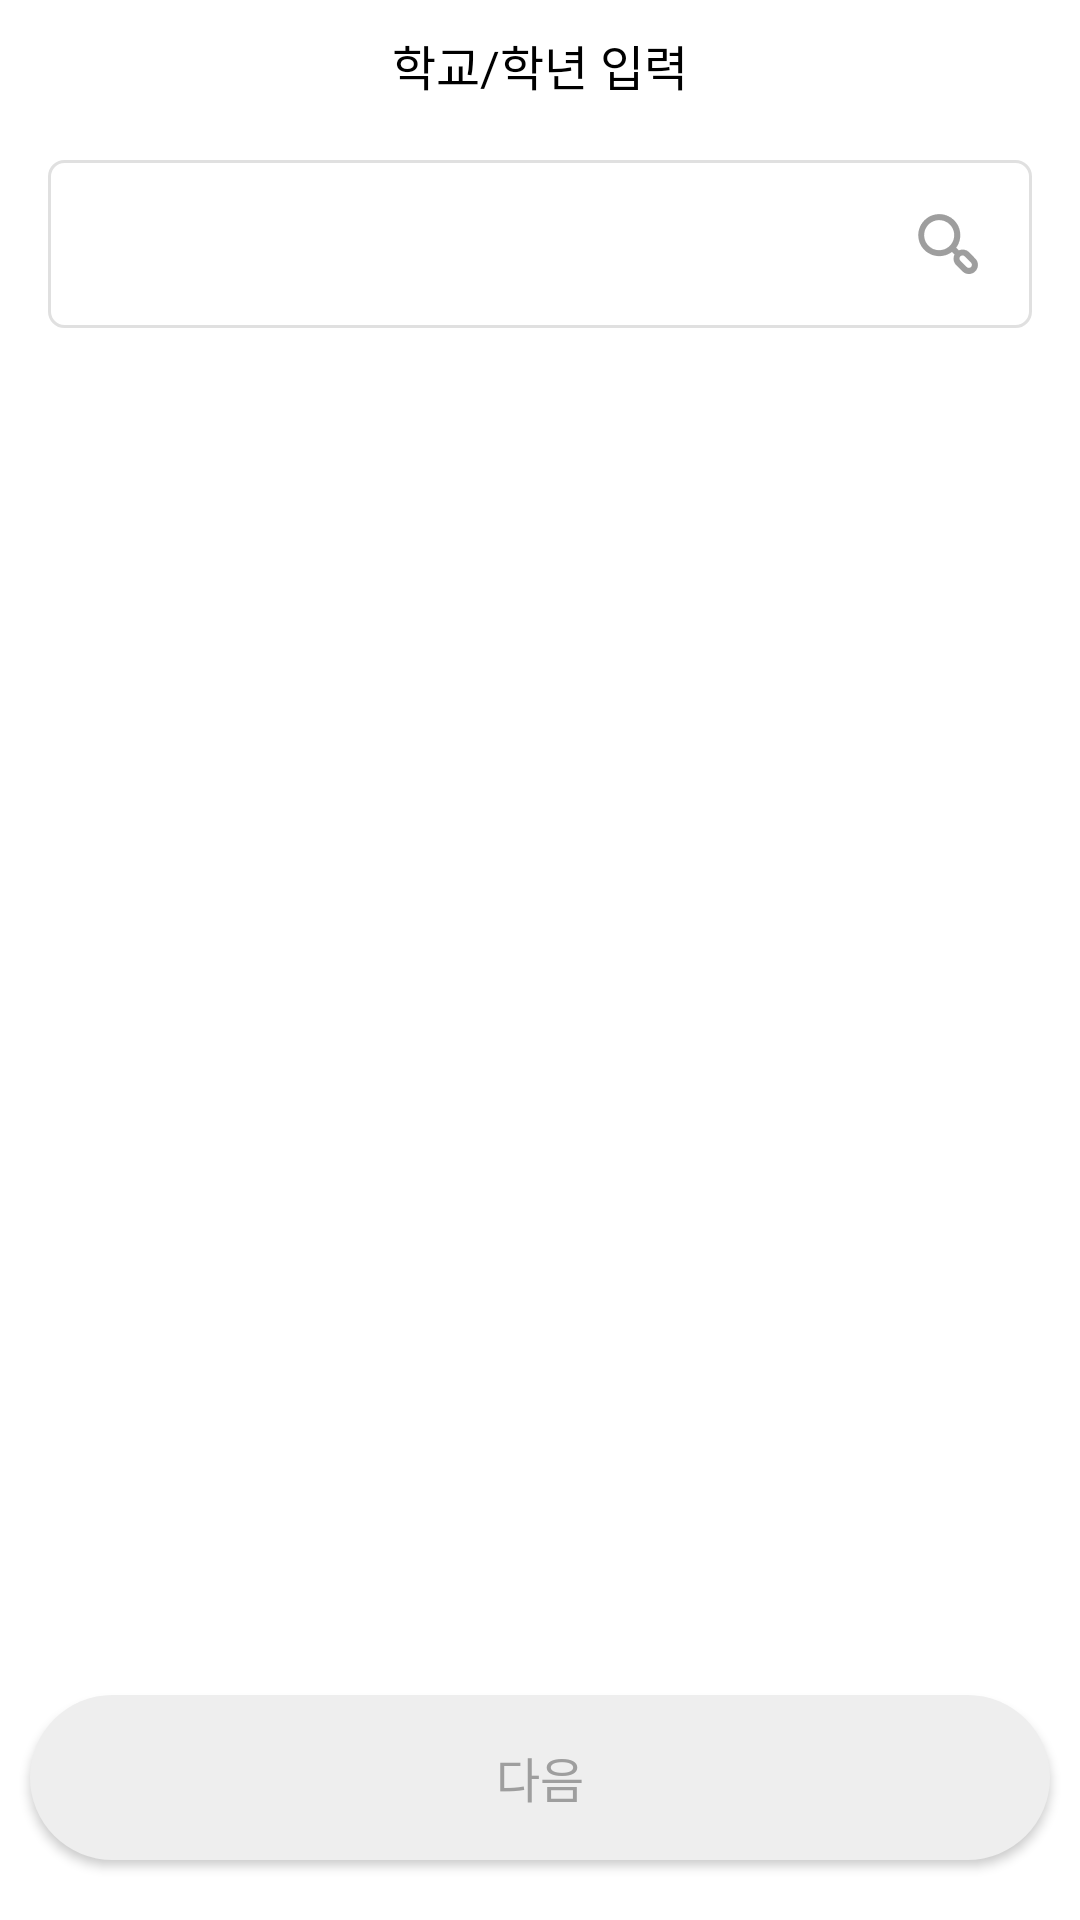

Icons on this 1080px x 1920px Android screen, each with the point to tap as (x=x, y=y):
research: (x=948, y=244)
